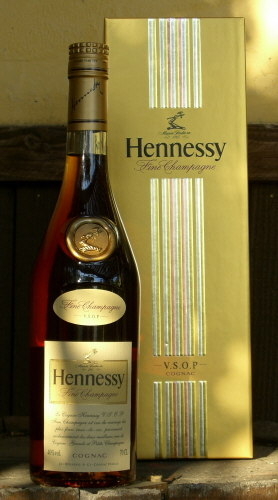Hennessy: (18, 31, 150, 495)
